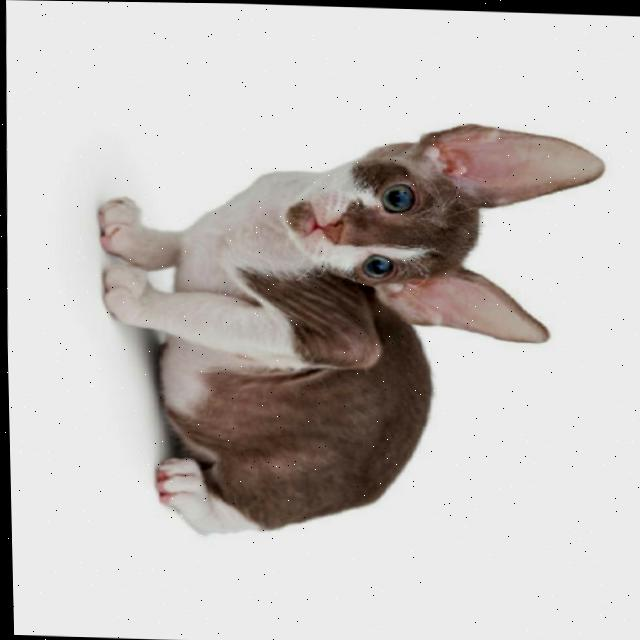Cornish Rex: (79, 105, 618, 552)
